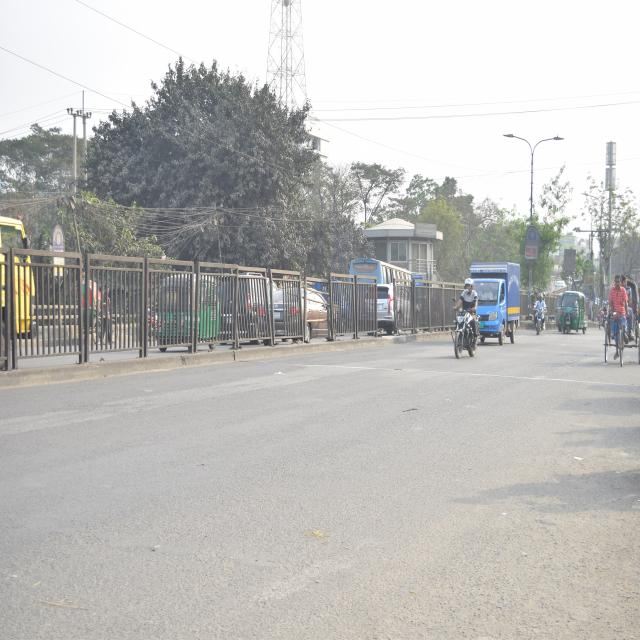motorbike: (448, 300, 480, 363), (528, 300, 547, 340)
pickup-van: (468, 255, 524, 355)
